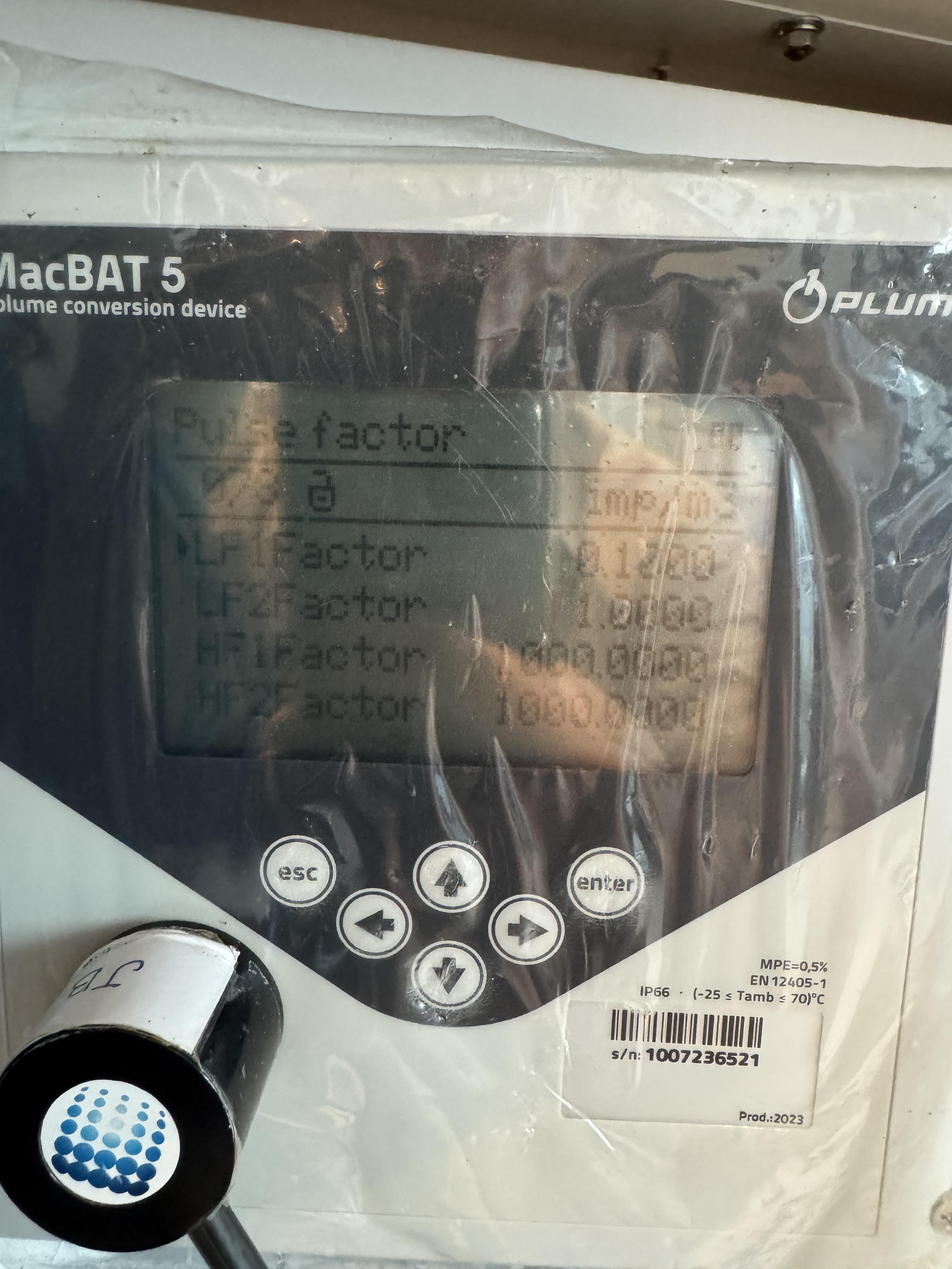digital_screen: (135, 379, 783, 773)
